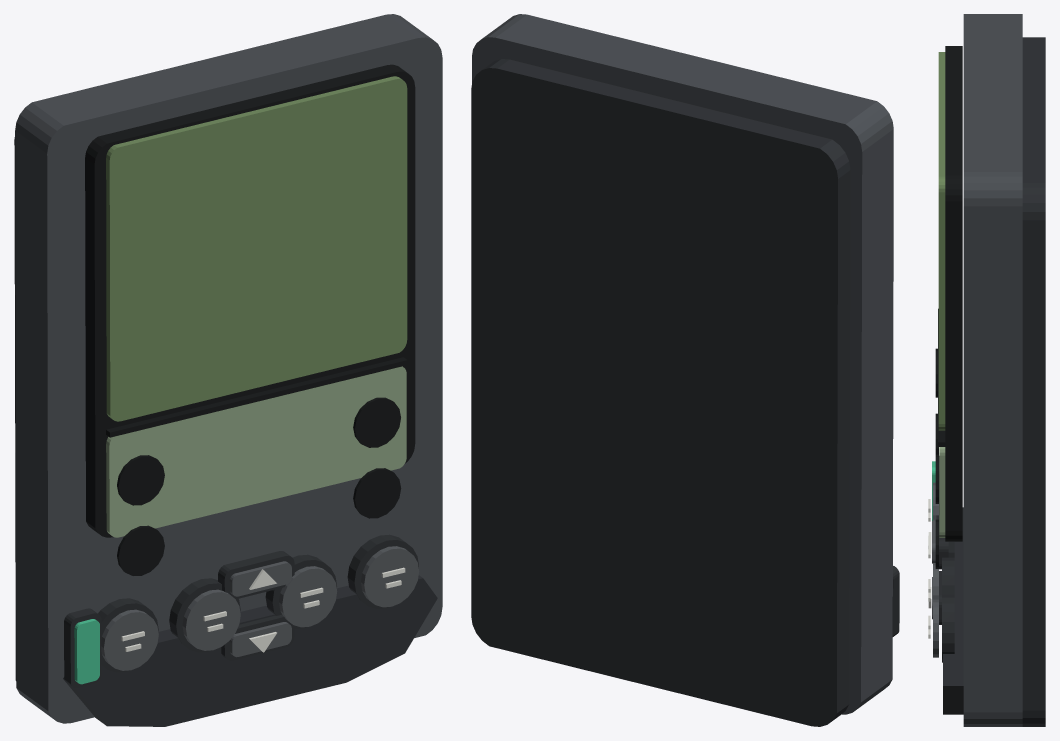
File: PalmPilot_Ground.fbx
3 renders of one model, left to right at view 1: azimuth 30°, elevation 25°; view 2: azimuth 150°, elevation 25°; view 3: azimuth 270°, elevation 25°, orthographic. The views are drawn at different scales.
Parts seen in each view (by area): view 1: PalmPilot_Ground; view 2: PalmPilot_Ground; view 3: PalmPilot_Ground.
Part boxes in pixels (bbox=[...]): PalmPilot_Ground: bbox=[14, 14, 442, 726]; PalmPilot_Ground: bbox=[471, 14, 899, 726]; PalmPilot_Ground: bbox=[928, 14, 1045, 726].
Bounding box in the file's own units: 0.082 × 0.1221 × 0.0229.
